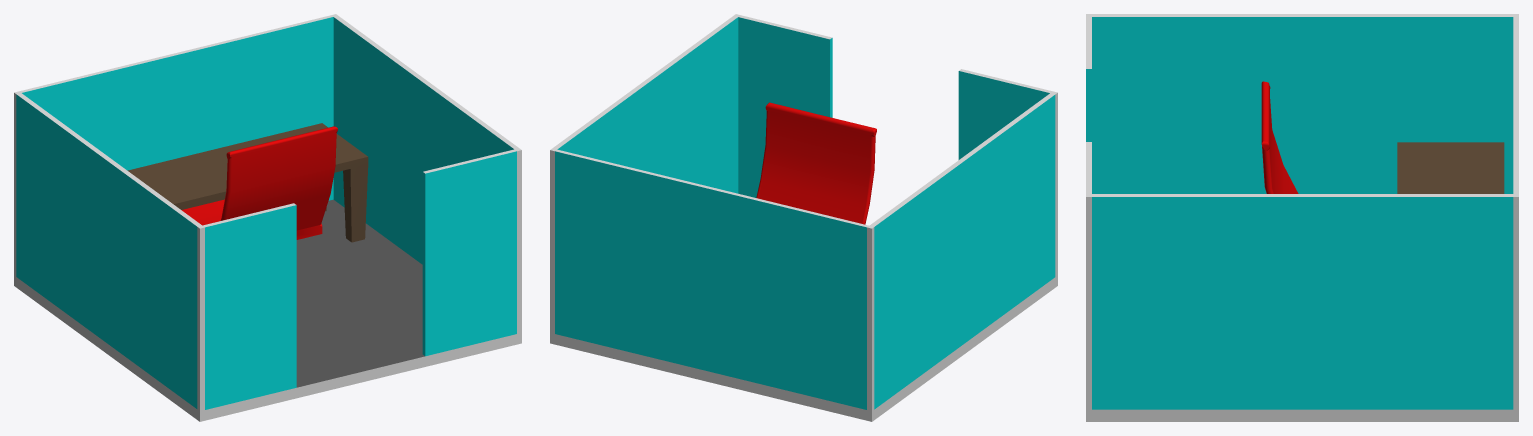
The model's file is Cubical2.fbx.
3 views of the same model, side by side, from view 1: azimuth 30°, elevation 25°; view 2: azimuth 150°, elevation 25°; view 3: azimuth 270°, elevation 25° (orthographic). The views are drawn at different scales.
Visible parts, largest first — view 1: pCube1, pCube3, pCube7; view 2: pCube1, pCube3; view 3: pCube1, pCube7, pCube3.
Part boxes in pixels (x1=…): pCube1: x1=14, y1=14, x2=521, y2=421; pCube3: x1=181, y1=126, x2=337, y2=239; pCube7: x1=127, y1=123, x2=368, y2=242; pCube1: x1=550, y1=14, x2=1057, y2=421; pCube3: x1=756, y1=102, x2=876, y2=224; pCube1: x1=1086, y1=14, x2=1518, y2=421; pCube7: x1=1397, y1=142, x2=1504, y2=193; pCube3: x1=1261, y1=81, x2=1298, y2=193.
Size of the model in its own units: 11.35 by 6.51 by 11.35.
